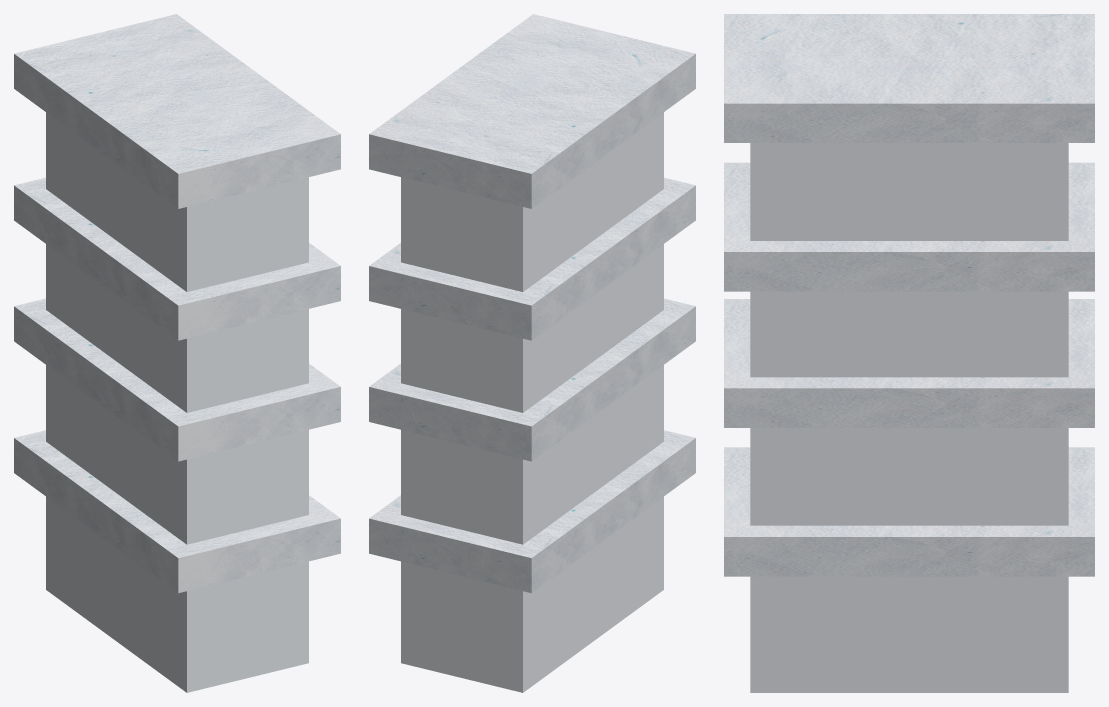
Rendered from buildung_01.obj.
3 renders of one model, left to right at view 1: azimuth 30°, elevation 25°; view 2: azimuth 150°, elevation 25°; view 3: azimuth 270°, elevation 25°, orthographic. The views are drawn at different scales.
Parts seen in each view (by area): view 1: 立方体; view 2: 立方体; view 3: 立方体.
Part boxes in pixels (<box>): 立方体: <box>14,14,340,692</box>; 立方体: <box>369,14,695,692</box>; 立方体: <box>724,14,1094,692</box>.
Size of the model in its own units: 2.66 by 8.33 by 4.66.
1 material, 1 textured.
